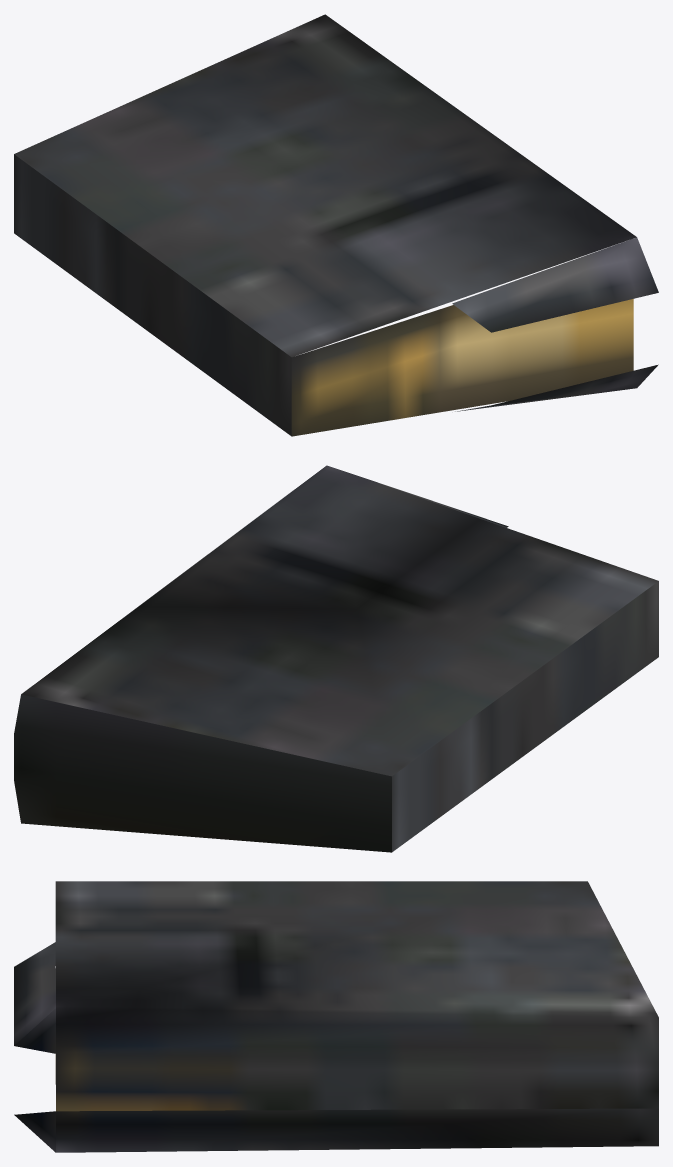
Rendered from Pickup_TpQub88Dj.glb.
The picture shows the model from 3 angles, top to bottom: view 1: azimuth 30°, elevation 25°; view 2: azimuth 150°, elevation 25°; view 3: azimuth 270°, elevation 25°; orthographic projection. The views are drawn at different scales.
Visible parts, largest first — view 1: pk_tp_qub88_dj; view 2: pk_tp_qub88_dj; view 3: pk_tp_qub88_dj.
Boxes of the visible parts, <box> form: pk_tp_qub88_dj: <box>14,14,658,436</box>; pk_tp_qub88_dj: <box>14,465,658,852</box>; pk_tp_qub88_dj: <box>14,881,658,1152</box>.
Bounding box in the file's own units: 0.0954 × 0.0387 × 0.1564.
Materials: 1 (1 with a texture image).
